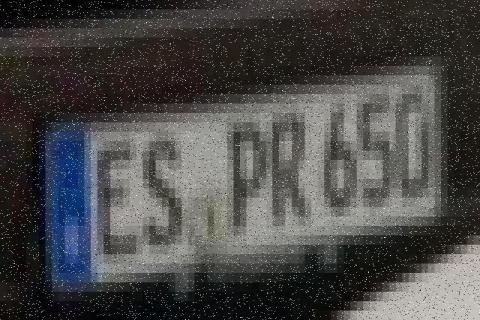LicensePlate: (33, 64, 452, 310)
